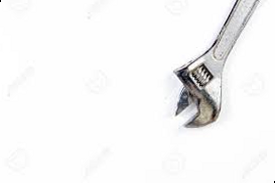Wrench: (171, 1, 264, 140)
